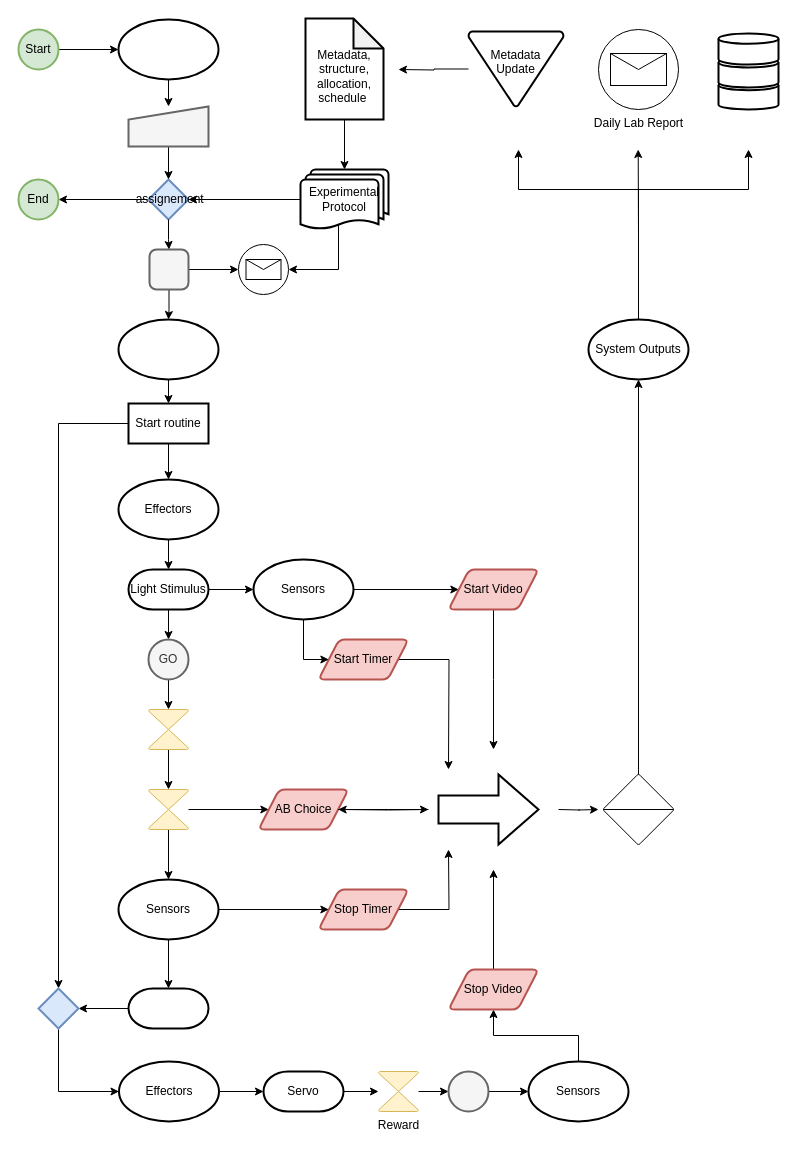
Some shapes in this 796 by 1149 pixel diagram are drawn without their labels. The shapes that lost their labels are listed below. From the top down, each one's centre as x and y in pixels, then its label:
At (168,49): "Manual Input".
At (168,126): "Subject ID".
At (168,269): "setup".
At (263,269): "setup instructions".
At (168,349): "Processes".
At (168,729): "Maze".
At (168,809): "Choice".
At (638,809): "Datta Aggregation".
At (58,1008): "evaluation".
At (168,1008): "Microswitch".
At (468,1091): "STOP".
